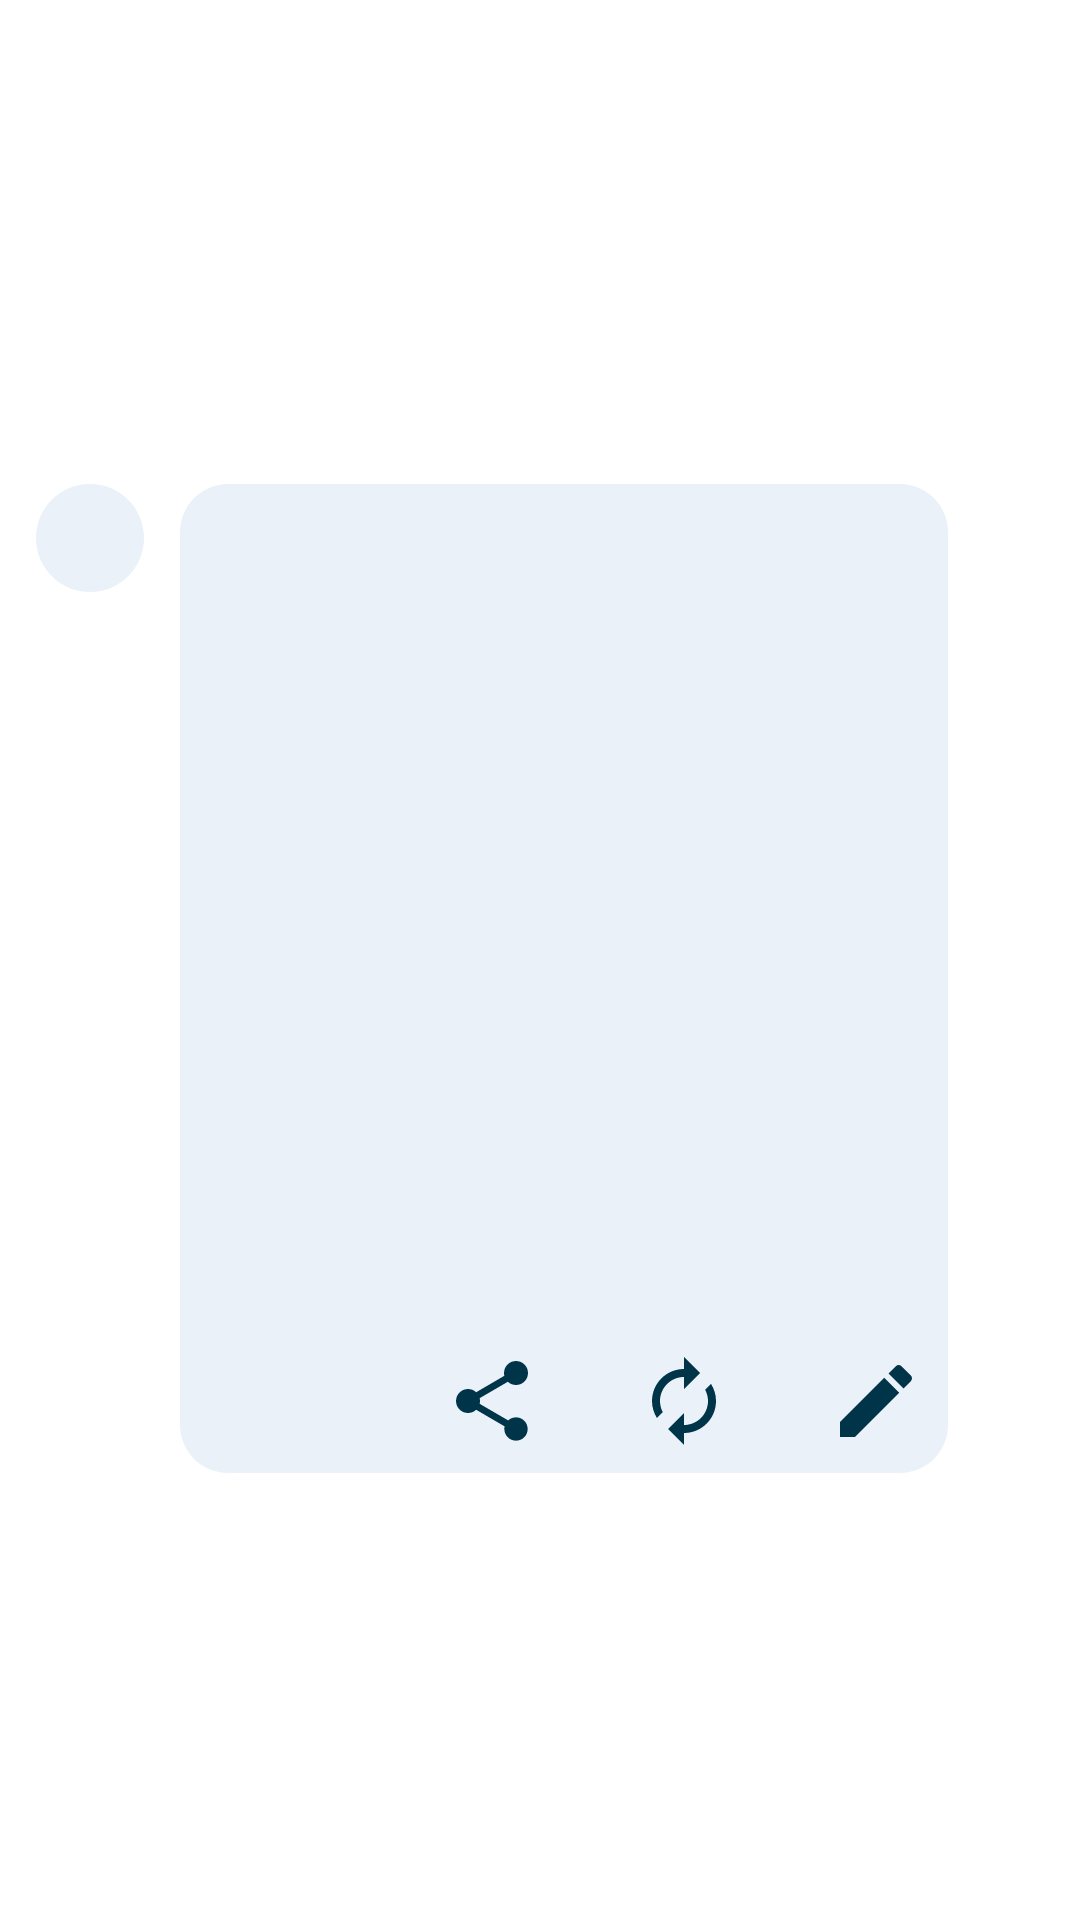

Point at icon controls on the screen. Image size 1080*1920, points as (x=x, y=y).
Edit: (x=876, y=1401)
Retry: (x=684, y=1401)
Share message: (x=492, y=1401)
